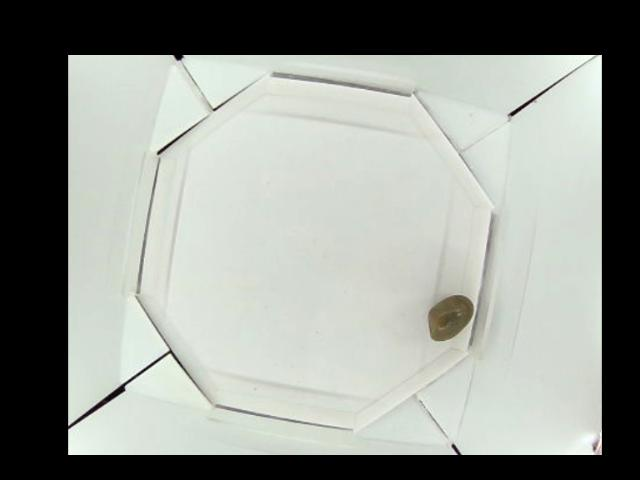Pebble: (424, 292, 474, 341)
